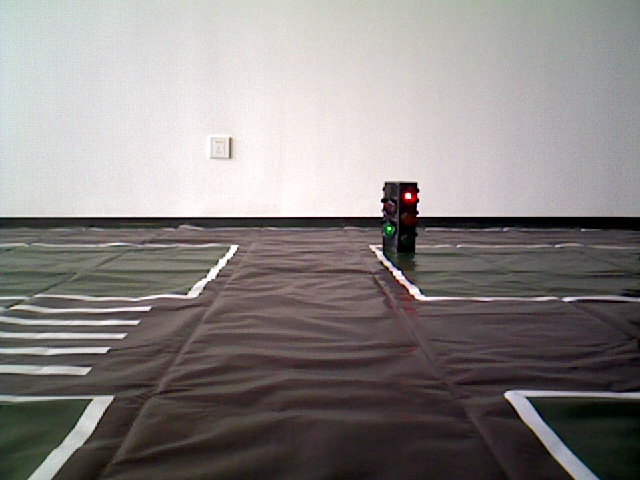red: (383, 183, 418, 267)
